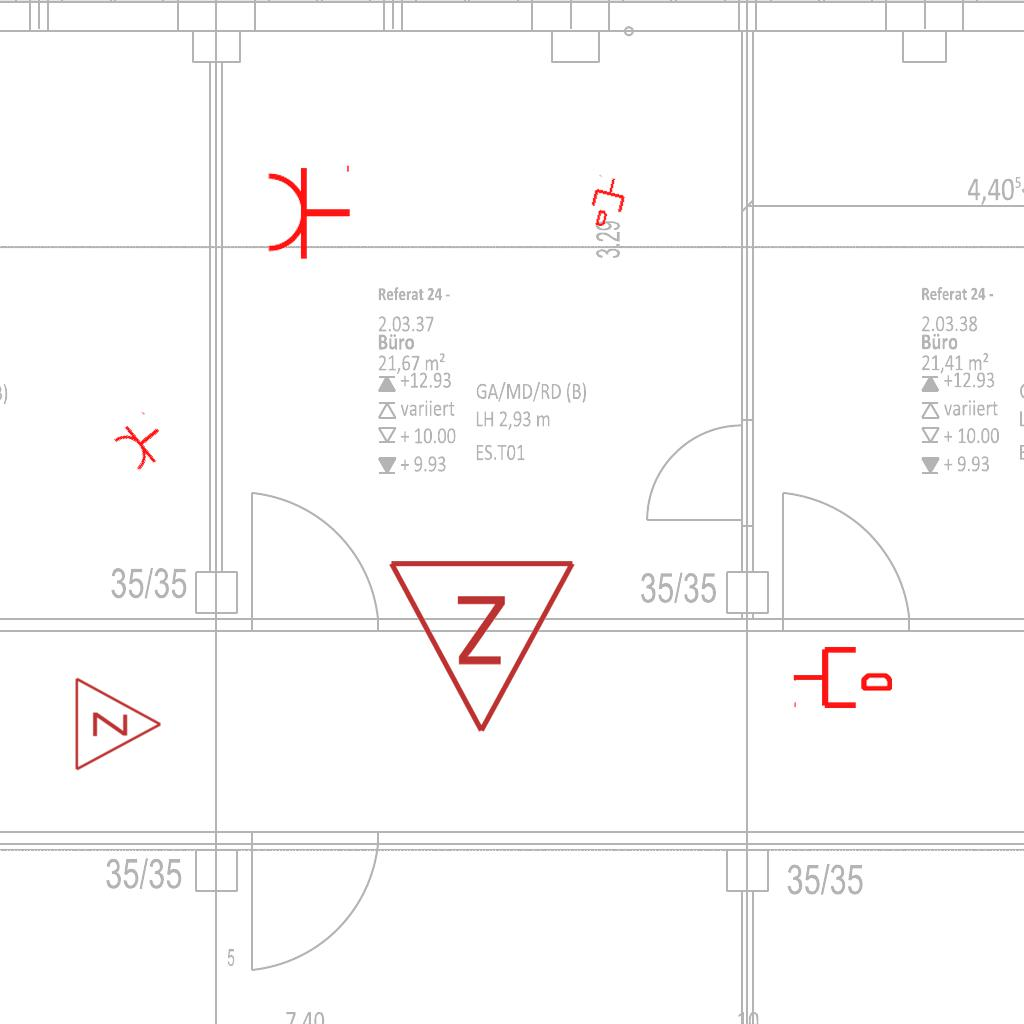Datenanschluss_einfach: (792, 643, 892, 712), (585, 173, 631, 231)
Schukosteckdose_einfach: (265, 161, 352, 261), (109, 409, 174, 475)
Zimmersignalleuchte: (386, 546, 582, 746), (68, 674, 168, 772)
